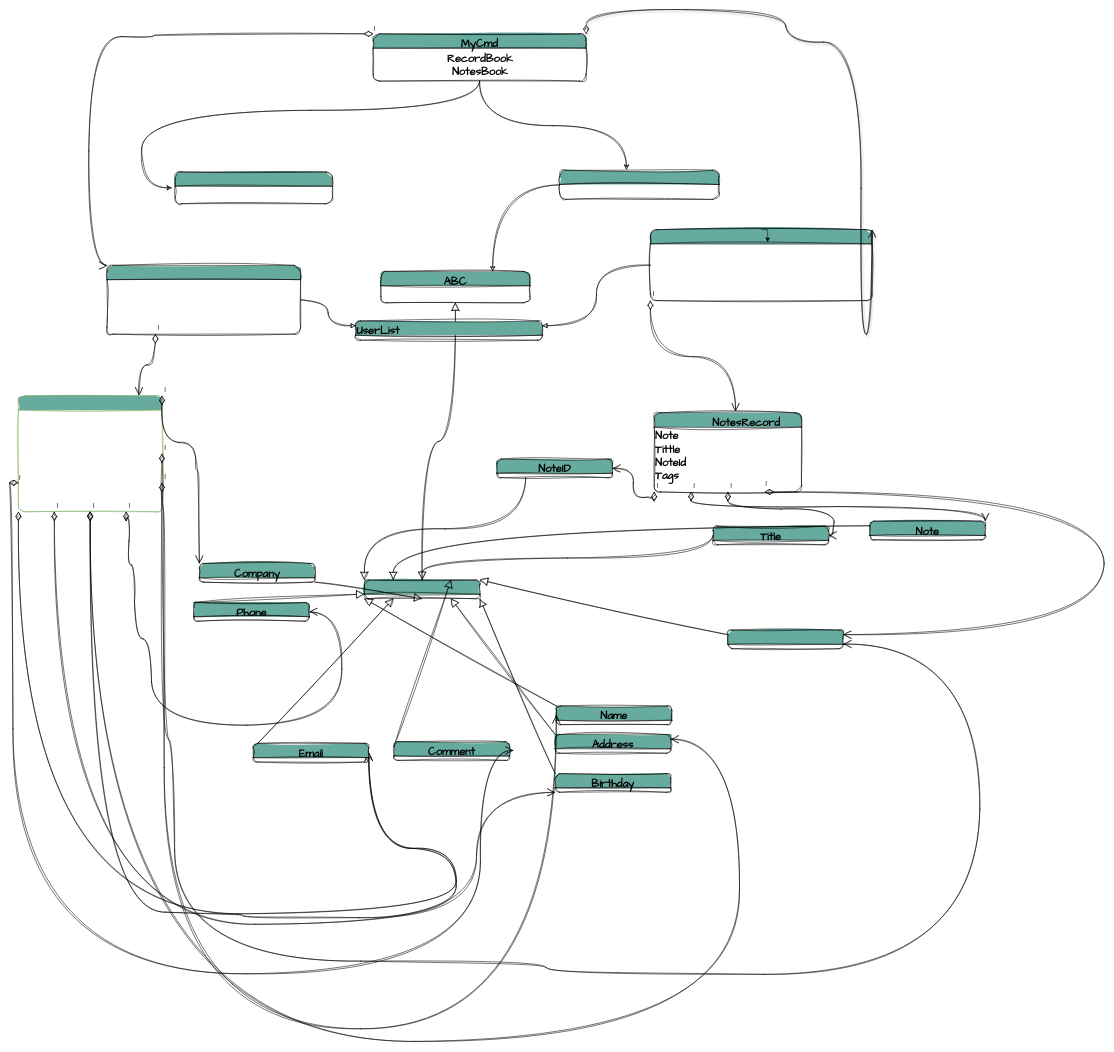
This 1114x1052 diagram has some shape labels left out. Here are the shapes that lost their labels. From the top down, the centre of each, then its label:
At (253,187): "cmd.Cmd".
At (639,184): "BotForUser".
At (761,265): "NotesBook NotesRecords".
At (203,299): "RecordBook Records".
At (90,453): "Record Phones Tags Company Address Comment Birthday Name".
At (422,589): "Field".
At (785,639): "Tag".
